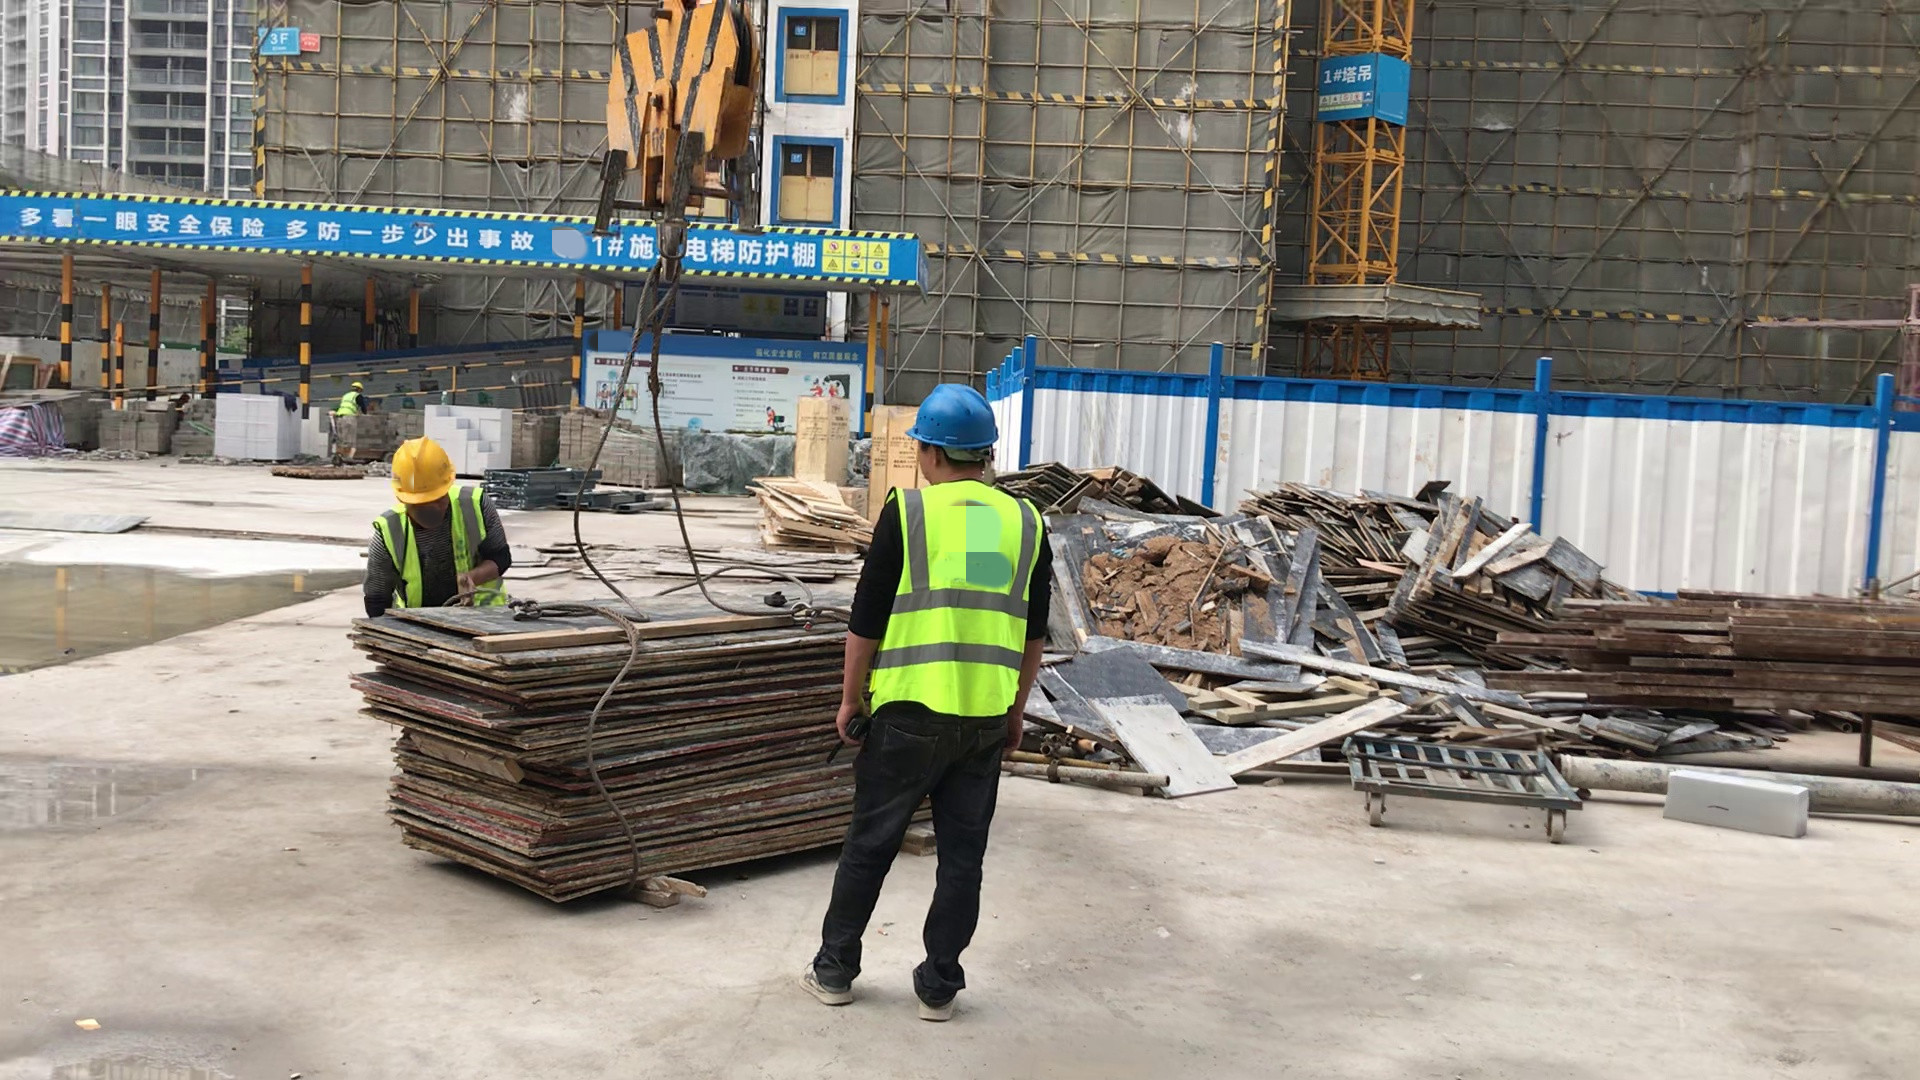board: (347, 584, 847, 903)
brick: (213, 391, 328, 464), (422, 403, 509, 475)
helmet: (909, 382, 999, 454), (392, 443, 452, 505), (349, 380, 363, 391)
hook: (595, 6, 761, 273)
person: (807, 376, 1049, 1027), (356, 435, 515, 609), (338, 379, 369, 419)
slogan: (17, 205, 538, 257), (819, 238, 890, 273), (1319, 92, 1371, 109)
vest: (869, 481, 1040, 719), (372, 485, 504, 612), (338, 393, 360, 416)
